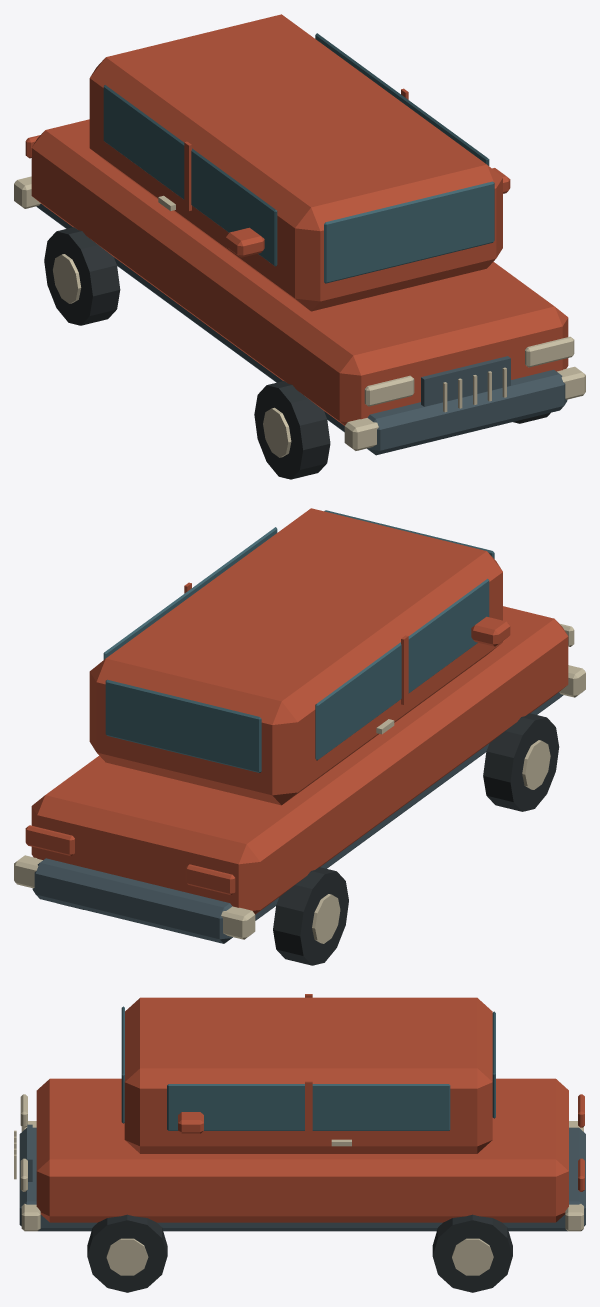
File: vehicle_estate.glb
3 views of the same model, one above another, from view 1: azimuth 30°, elevation 25°; view 2: azimuth 150°, elevation 25°; view 3: azimuth 270°, elevation 25° (orthographic). The views are drawn at different scales.
Parts seen in each view (by area): view 1: vehicle_estate; view 2: vehicle_estate; view 3: vehicle_estate.
Part boxes in pixels (box(x1,y1,x2,y2)): vehicle_estate: box(14, 14, 585, 479); vehicle_estate: box(14, 508, 585, 965); vehicle_estate: box(14, 994, 585, 1292).
Bounding box in the file's own units: 2.19 × 1.95 × 4.85.
